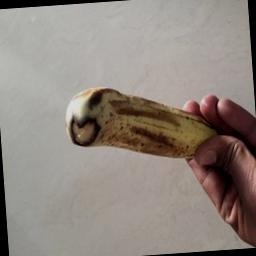Banana Ripe: (59, 58, 229, 188)
